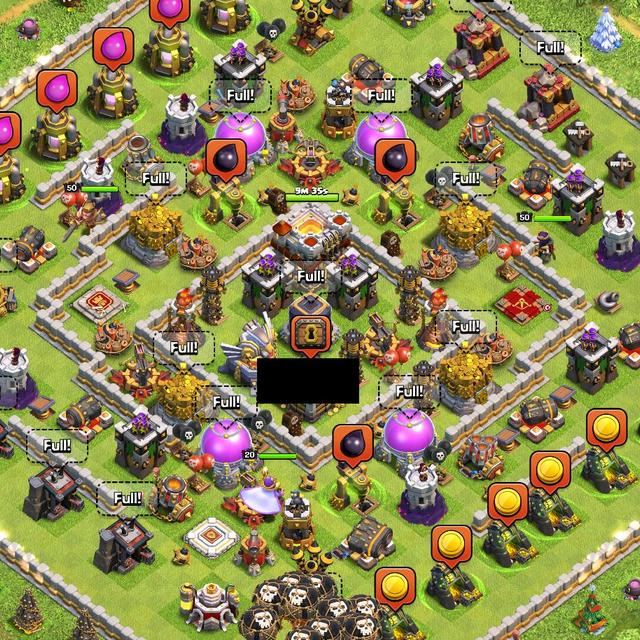FullCoin: (586, 406, 628, 450), (529, 450, 572, 492), (487, 480, 529, 522), (432, 525, 472, 566), (375, 568, 416, 606)
FullElixir: (36, 68, 78, 108), (91, 28, 135, 64), (150, 0, 190, 28), (0, 111, 23, 154)
FullElixirNegro: (374, 138, 418, 181), (332, 424, 374, 466), (206, 138, 248, 180)
